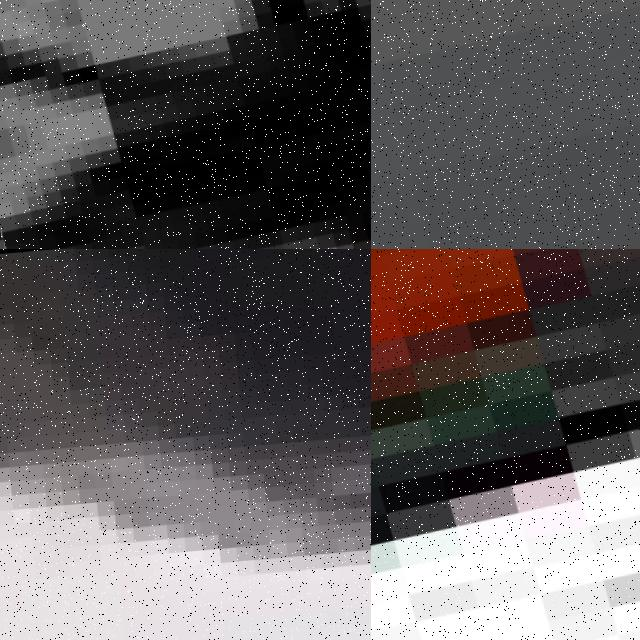drone: (371, 249, 640, 640), (0, 0, 371, 249), (371, 0, 640, 249)
